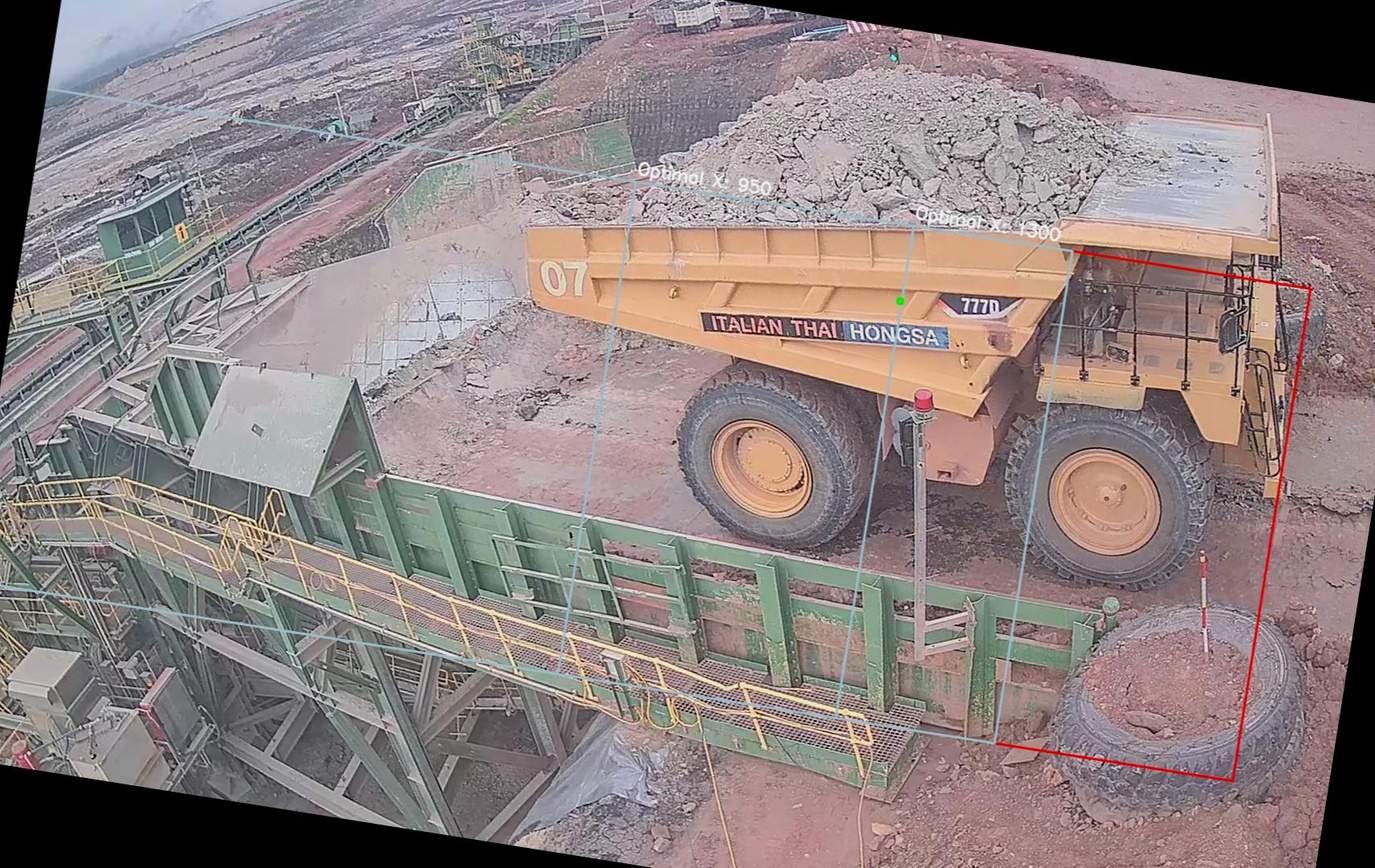company: (684, 286, 966, 378)
full_load: (649, 23, 1089, 263)
mining_truck: (470, 0, 1357, 624)
tail_number: (519, 235, 599, 315)
truck_size: (927, 281, 1029, 332)
